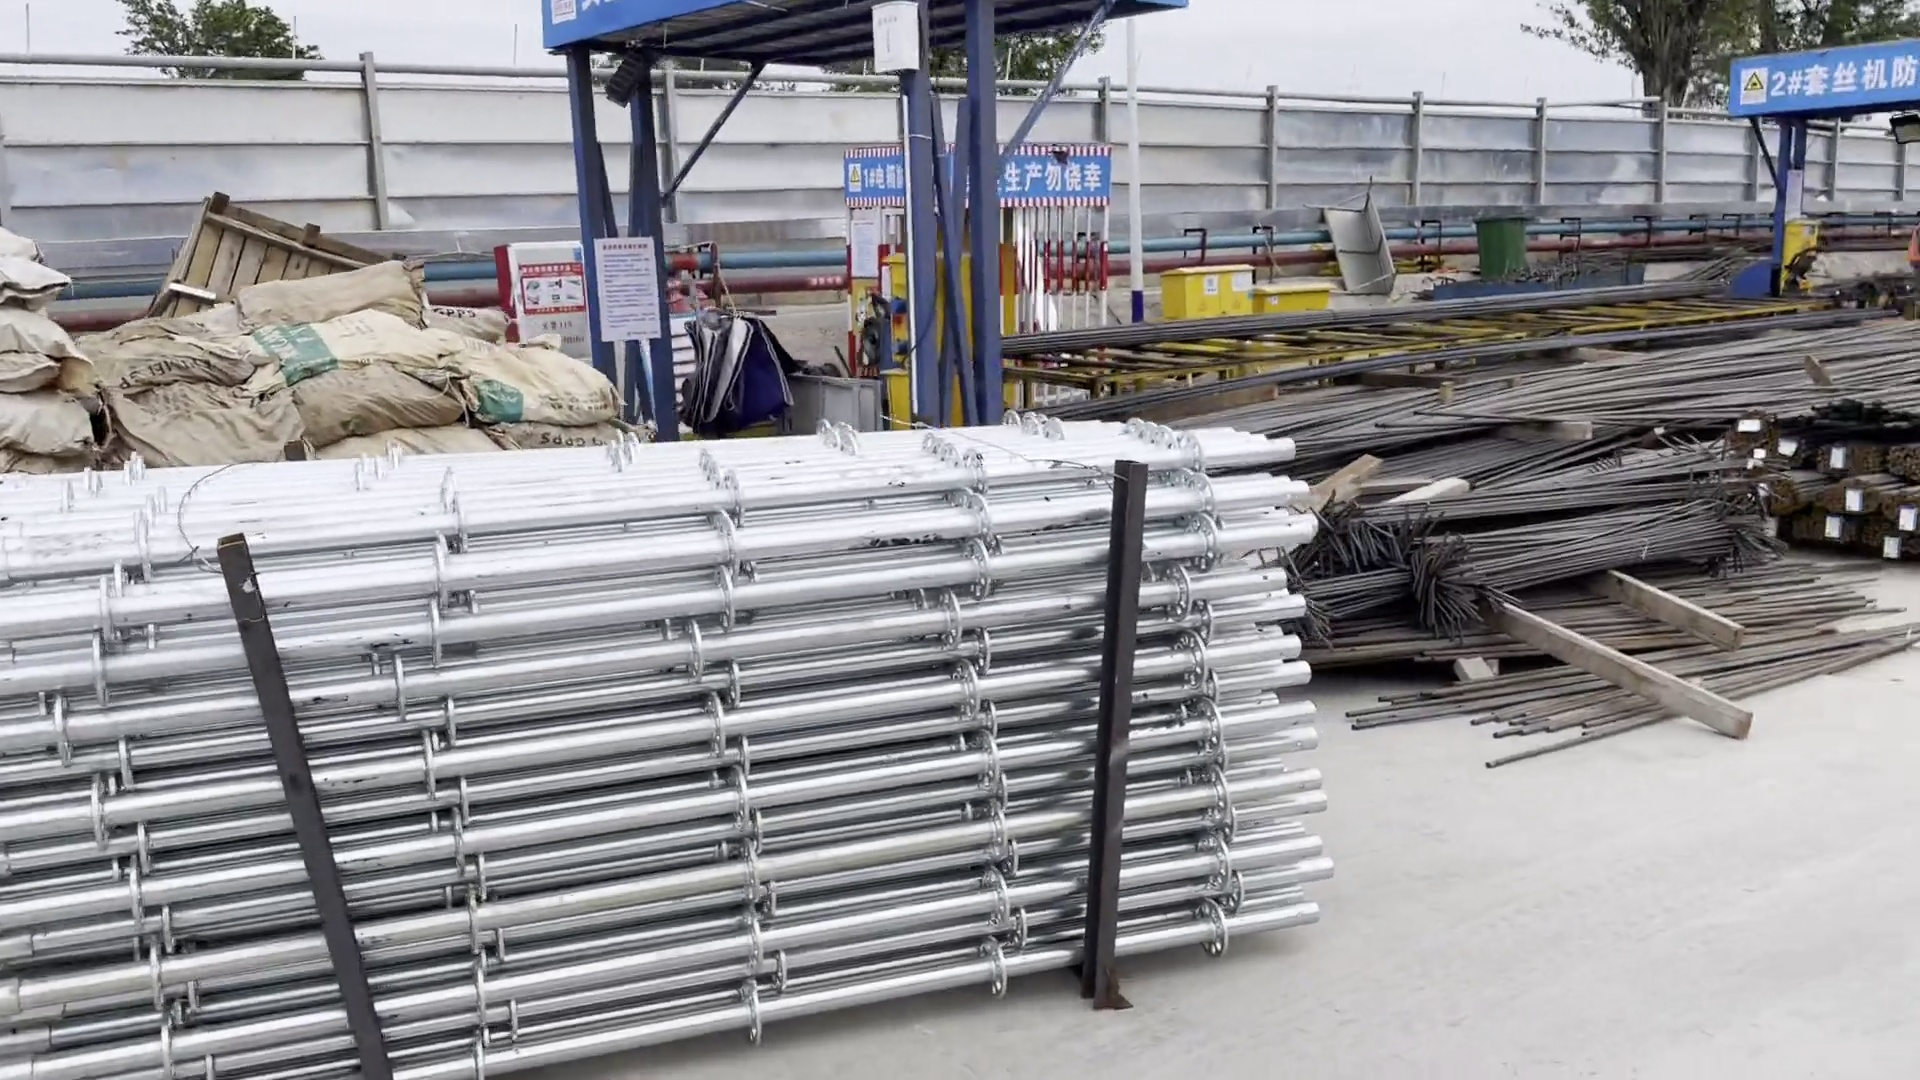ebox: (877, 243, 1019, 429), (1143, 255, 1255, 322), (1255, 272, 1329, 327), (1774, 214, 1822, 295)
rebar: (1305, 347, 1920, 661), (996, 265, 1755, 353)
scaffold: (1, 386, 1340, 1077)
slogan: (992, 150, 1105, 200)
